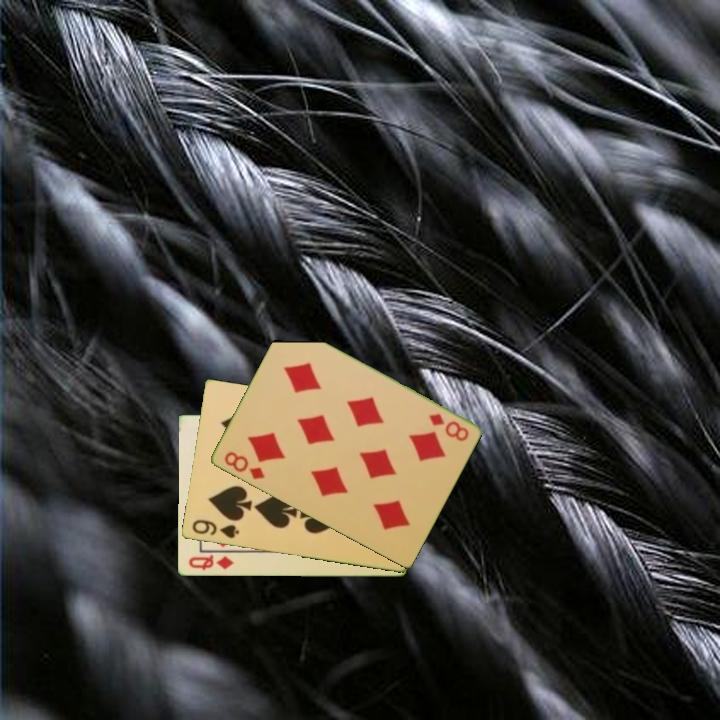8d: (220, 448, 268, 483), (425, 410, 471, 444)
9s: (188, 516, 242, 541)
Qd: (185, 552, 236, 574)
